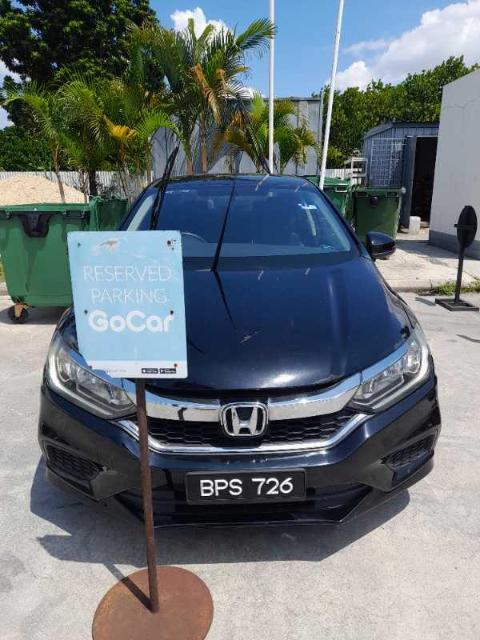License_Plate: (185, 469, 308, 505)
car: (38, 173, 442, 530)
